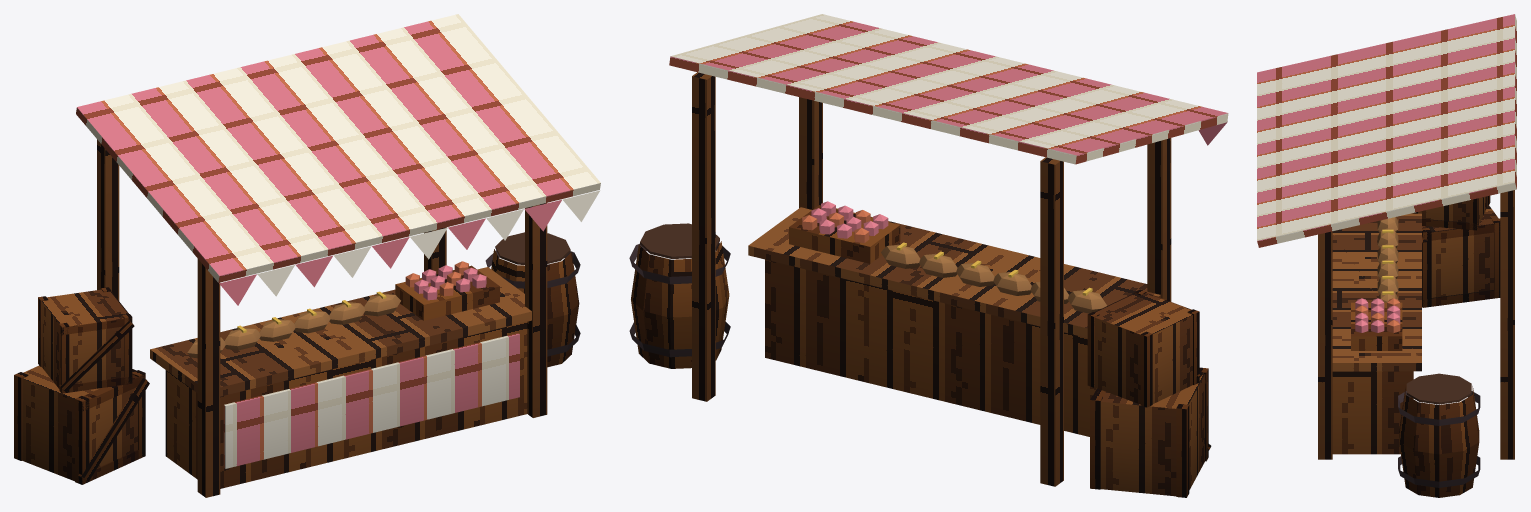
The model's file is market_stall.glb.
The picture shows the model from 3 angles, left to right: view 1: azimuth 30°, elevation 25°; view 2: azimuth 150°, elevation 25°; view 3: azimuth 270°, elevation 25°; orthographic projection. The views are drawn at different scales.
Parts seen in each view (by area): view 1: market_stall; view 2: market_stall; view 3: market_stall.
Boxes of the visible parts, <box> form: market_stall: <box>14,14,600,497</box>; market_stall: <box>629,14,1228,497</box>; market_stall: <box>1257,14,1516,497</box>.
Size of the model in its own units: 4.94 by 2.77 by 2.28.
Materials: 3 (2 with a texture image).
